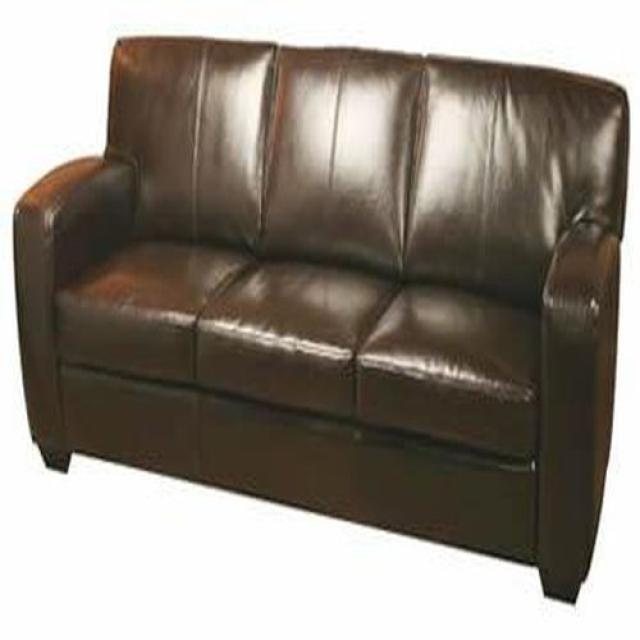sofa: (13, 36, 630, 605)
